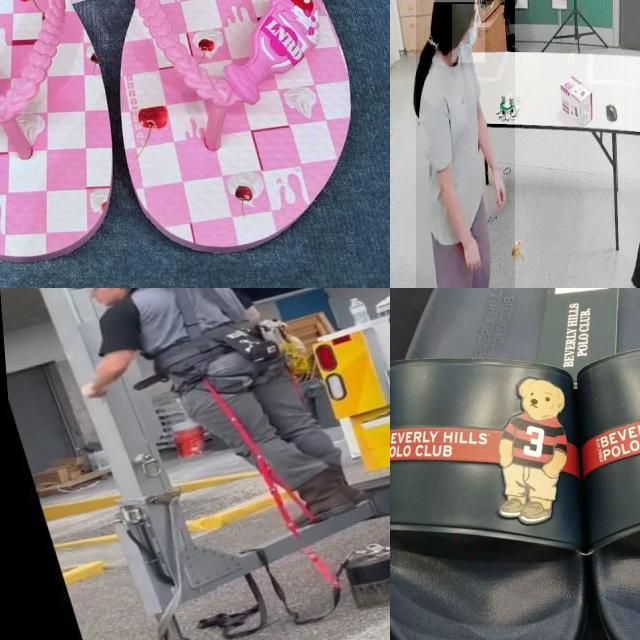Harness: (171, 288, 203, 338)
Sandals: (0, 0, 375, 284), (390, 288, 640, 640)
face_mask: (452, 4, 485, 63)
hand_noglove: (461, 234, 483, 272), (491, 170, 507, 210)
person: (416, 0, 515, 288)
shoes: (615, 274, 638, 288)
